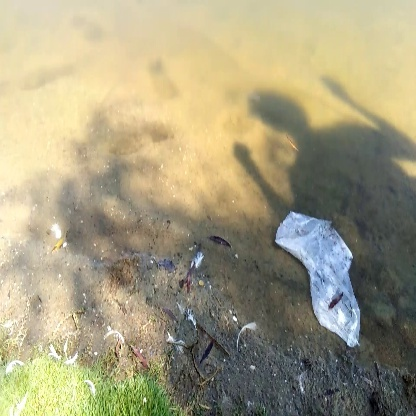plastic-bag: (277, 209, 368, 346)
